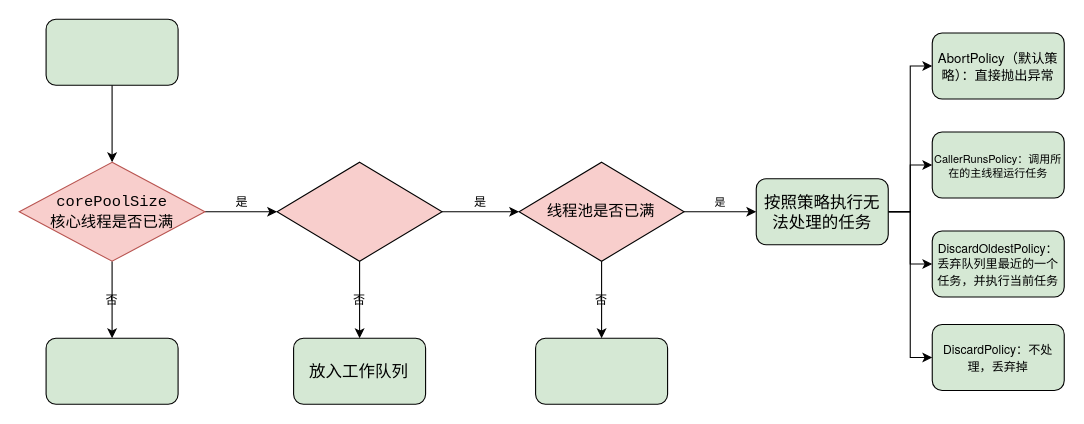
This 1084x424 diagram has some shape labels left out. The centre of each missing label's shape, as x and y in pixels:
创建一个新的核心线程来执行任务: the point at 111,370
创建新的线程来执行任务: the point at 601,370
工作队列是否已满: the point at 359,211
提交新的任务队列: the point at 111,51
